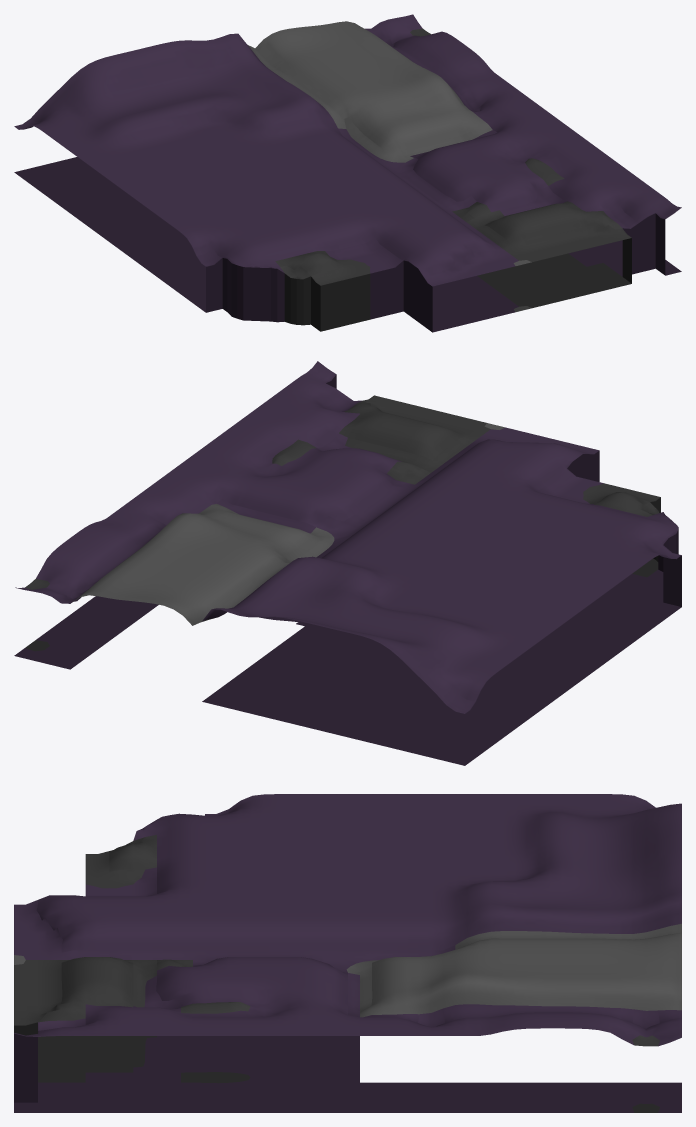
The model's file is delbld-hull-555.glb.
The picture shows the model from 3 angles, top to bottom: view 1: azimuth 30°, elevation 25°; view 2: azimuth 150°, elevation 25°; view 3: azimuth 270°, elevation 25°; orthographic projection. The views are drawn at different scales.
Parts seen in each view (by area): view 1: delbld-hull-555; view 2: delbld-hull-555; view 3: delbld-hull-555.
Boxes of the visible parts, box(x1,y1,x2,y2) form: delbld-hull-555: box(14, 14, 681, 332); delbld-hull-555: box(14, 361, 681, 765); delbld-hull-555: box(14, 794, 681, 1112).
Bounding box in the file's own units: 2 × 0.4439 × 2.33.
5 materials, 5 textured.
